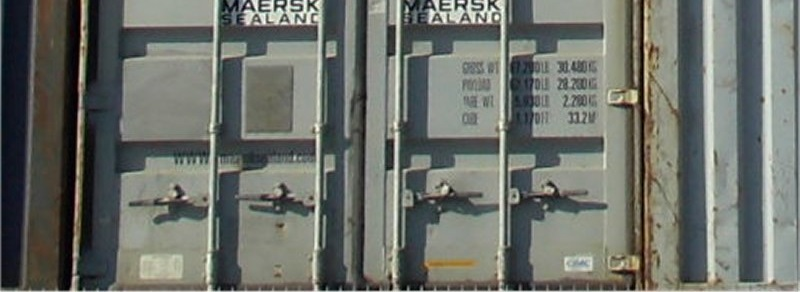container_door: (74, 7, 650, 280)
